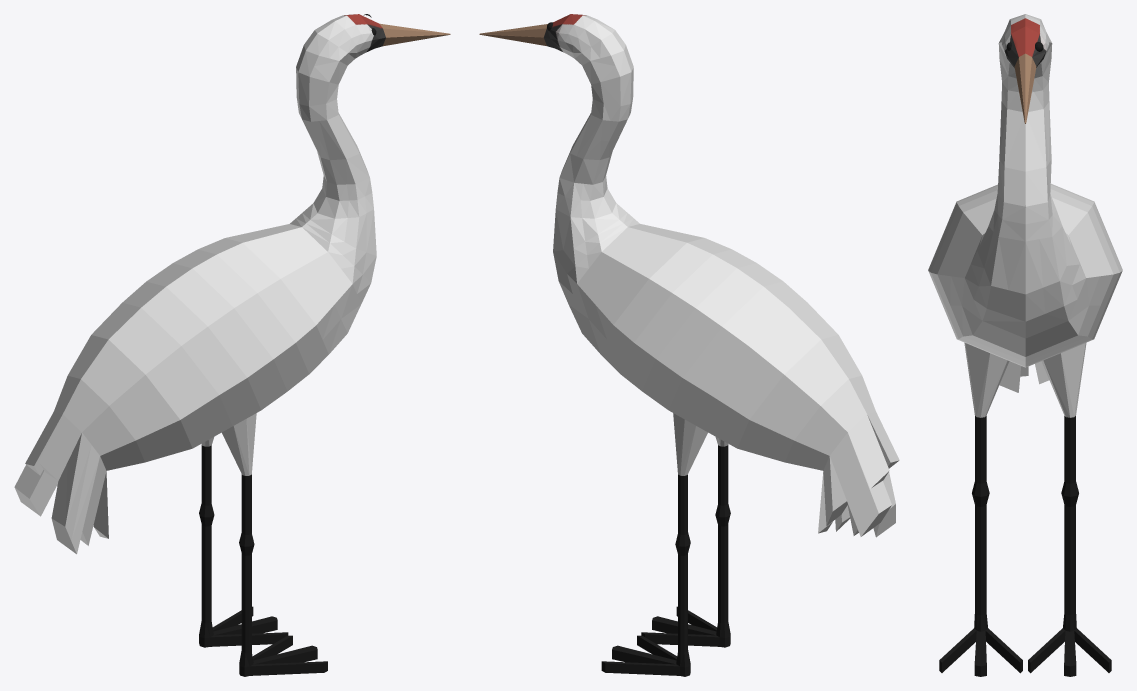
Rendered from crane.glb.
3 views of the same model, side by side, from view 1: azimuth 30°, elevation 25°; view 2: azimuth 150°, elevation 25°; view 3: azimuth 270°, elevation 25° (orthographic). The views are drawn at different scales.
Visible parts, largest first — view 1: WC_geo; view 2: WC_geo; view 3: WC_geo.
Boxes of the visible parts, x1,y1,x2,y2 form: WC_geo: [14, 14, 450, 676]; WC_geo: [479, 14, 899, 676]; WC_geo: [928, 14, 1122, 676].
Bounding box in the file's own units: 0.8673 × 1.22 × 0.3137.
2 materials, 2 textured.
